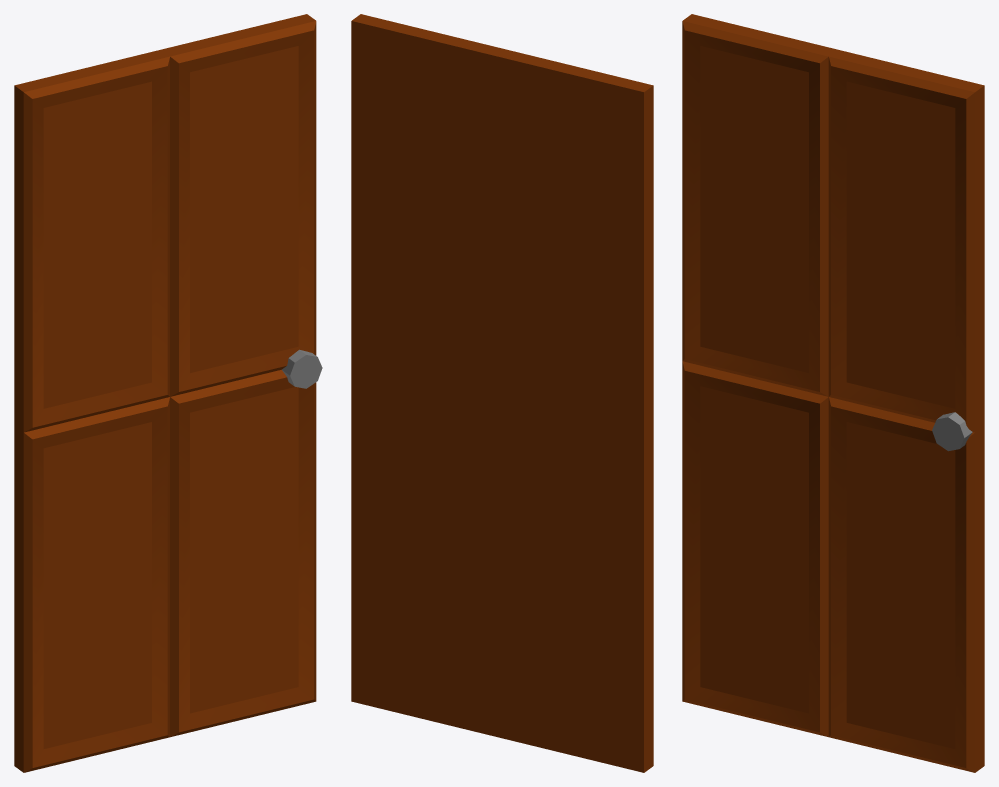
Rendered from salon_puertafalsa.fbx.
3 views of the same model, side by side, from view 1: azimuth 30°, elevation 25°; view 2: azimuth 150°, elevation 25°; view 3: azimuth 330°, elevation 25° (orthographic).
Visible parts, largest first — view 1: puerta_principal; view 2: puerta_principal; view 3: puerta_principal.
Boxes of the visible parts, <box> form: puerta_principal: <box>14,14,322,772</box>; puerta_principal: <box>351,14,653,772</box>; puerta_principal: <box>682,14,984,772</box>.
Bounding box in the file's own units: 90 × 200 × 9.46.
